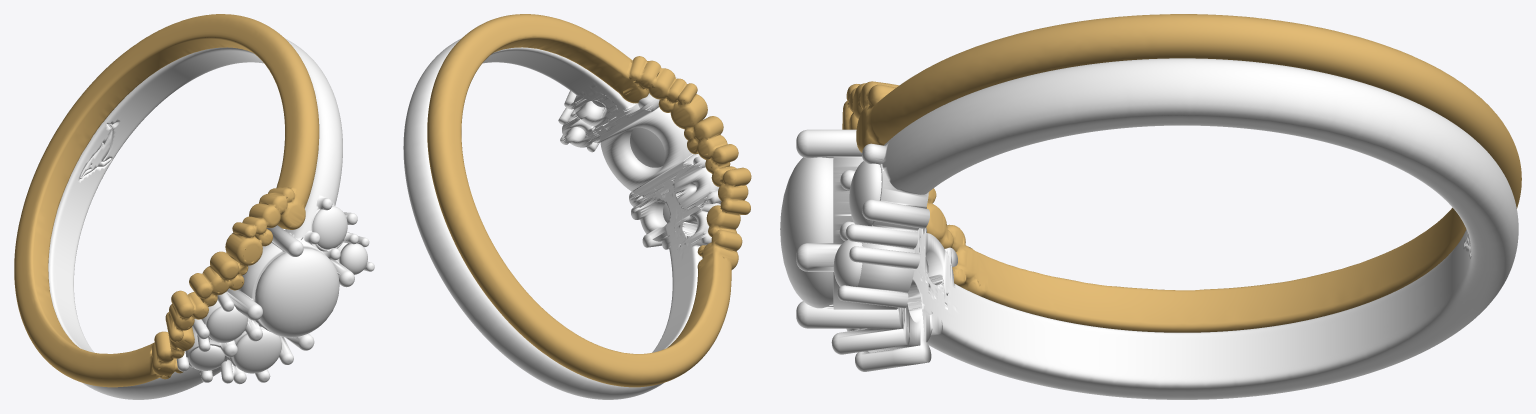
File: ring5.glb
The picture shows the model from 3 angles, left to right: view 1: azimuth 30°, elevation 25°; view 2: azimuth 150°, elevation 25°; view 3: azimuth 270°, elevation 25°; orthographic projection. The views are drawn at different scales.
Visible parts, largest first — view 1: gold, silver, diamonds, diamonds004, diamonds001, diamonds003, diamonds005, diamonds002; view 2: gold, silver, diamonds; view 3: silver, gold, diamonds, diamonds001, diamonds002.
Boxes of the visible parts, x1,y1,x2,y2 form: gold: (14,14,319,387); silver: (48,38,374,399); diamonds: (254,248,339,337); diamonds004: (233,329,281,373); diamonds001: (312,206,347,249); diamonds003: (206,306,247,342); diamonds005: (189,345,224,370); diamonds002: (339,243,367,274); gold: (427,14,751,387); silver: (403,38,721,399); diamonds: (630,127,665,167); silver: (796,58,1518,399); gold: (842,14,1521,332); diamonds: (780,157,833,308); diamonds001: (849,161,881,225); diamonds002: (833,240,862,286).
Bounding box in the file's own units: 1.89 × 2.24 × 2.87.
